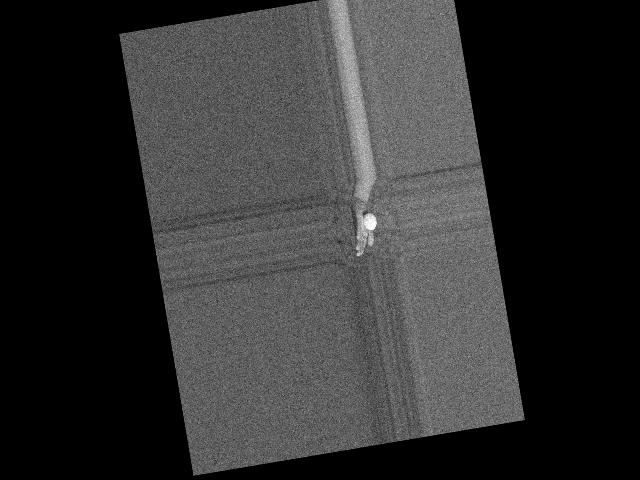egg: (361, 211, 378, 230)
